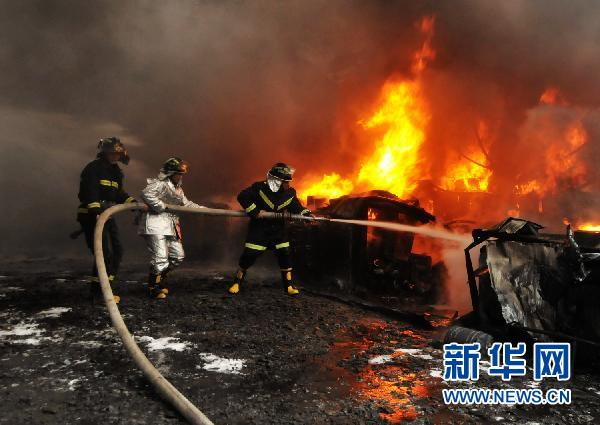fire: (300, 28, 431, 199), (446, 90, 597, 230)
